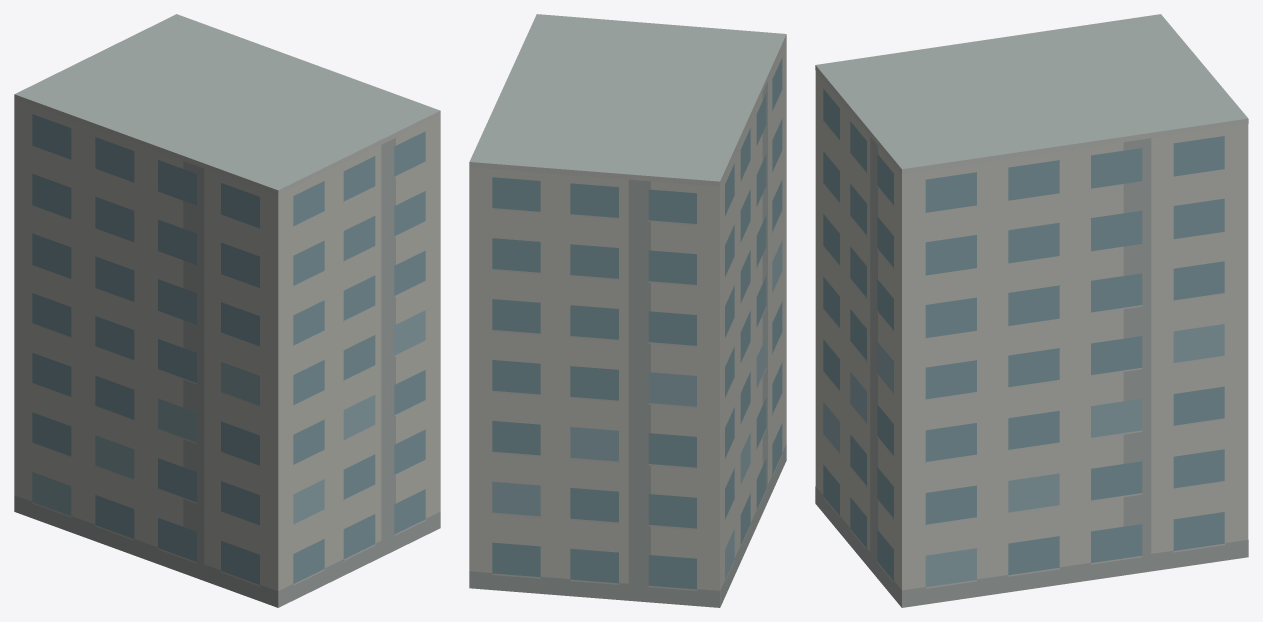
File: survey-upis-32822753.glb
The picture shows the model from 3 angles, left to right: view 1: azimuth 30°, elevation 25°; view 2: azimuth 150°, elevation 25°; view 3: azimuth 270°, elevation 25°; orthographic projection. The views are drawn at different scales.
Visible parts, largest first — view 1: survey-upis-32822753.tmp; view 2: survey-upis-32822753.tmp; view 3: survey-upis-32822753.tmp.
Boxes of the visible parts, x1,y1,x2,y2 form: survey-upis-32822753.tmp: [14, 14, 440, 607]; survey-upis-32822753.tmp: [469, 14, 786, 607]; survey-upis-32822753.tmp: [815, 14, 1248, 607].
Size of the model in its own units: 15.08 by 19.85 by 17.77.
